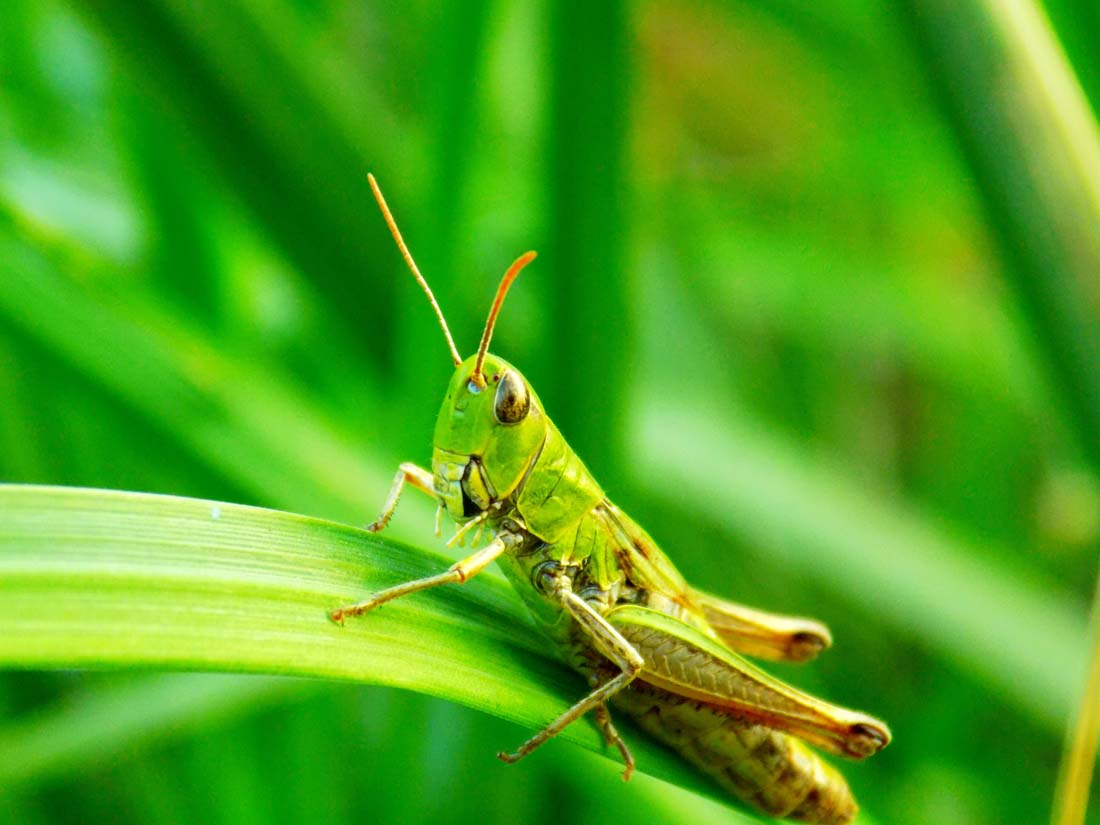huangchong: (369, 346, 897, 825)
